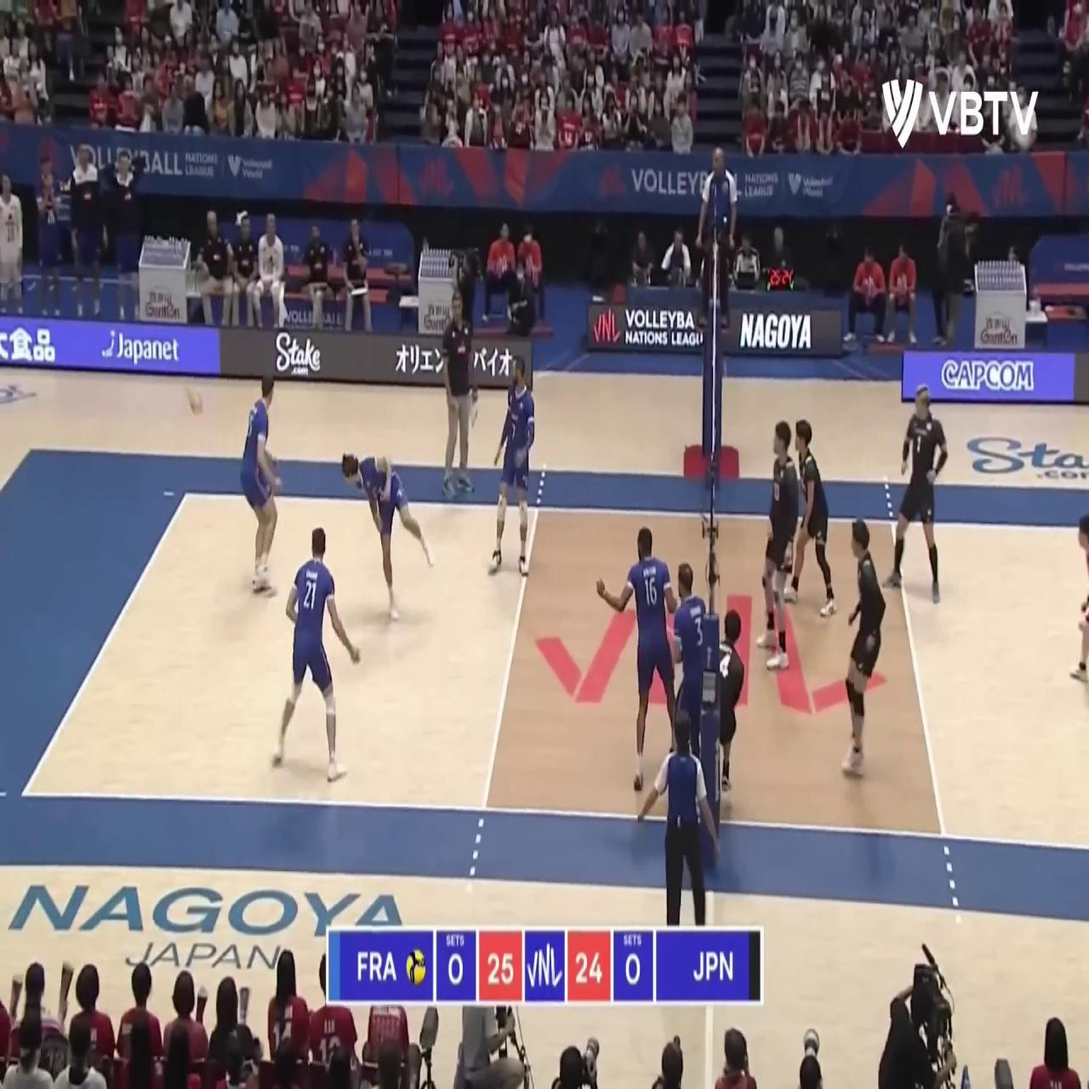ball: (188, 384, 205, 415)
